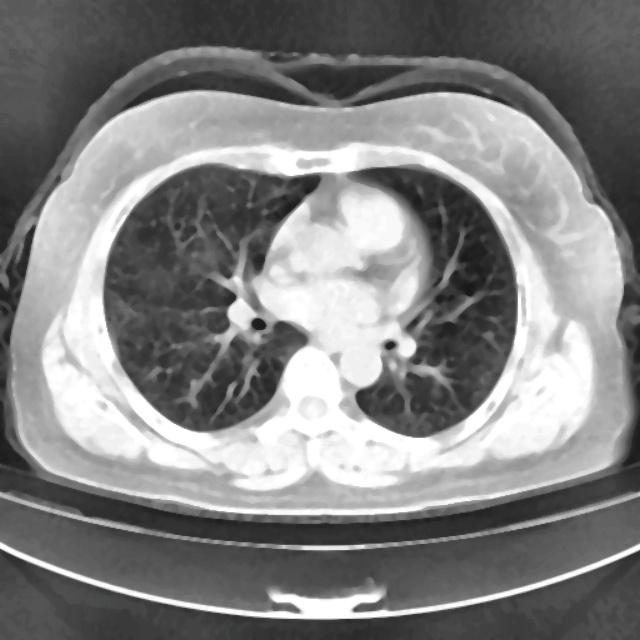covid: (2, 52, 636, 523)
